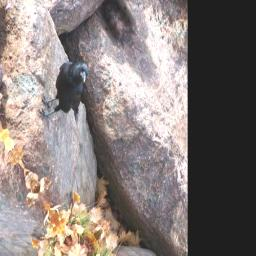Crow: (29, 45, 109, 150)
